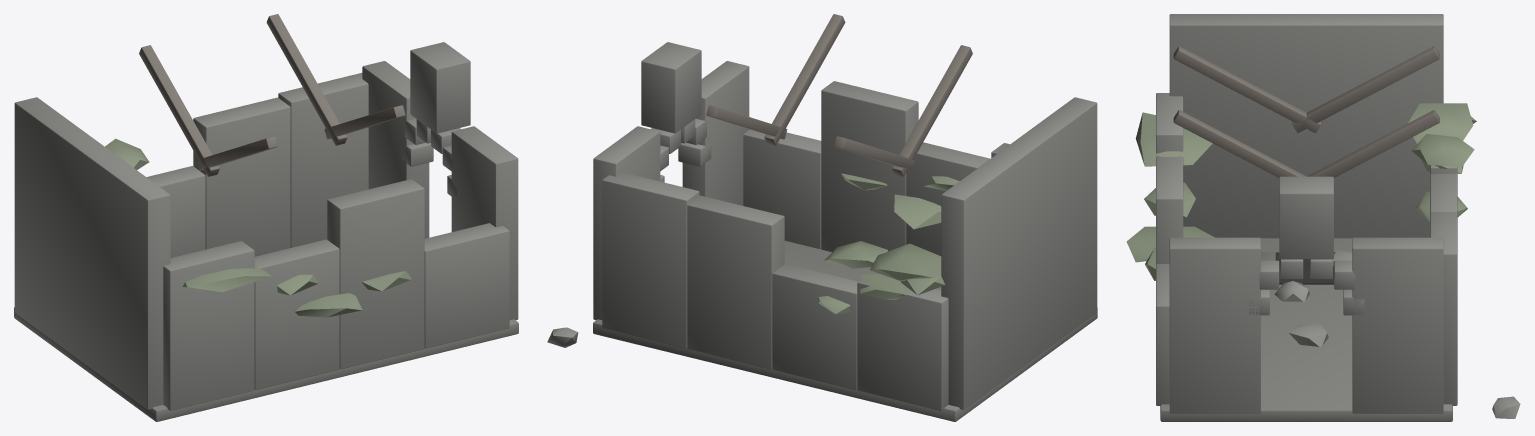
File: chapel_ruin.gltf
3 views of the same model, side by side, from view 1: azimuth 30°, elevation 25°; view 2: azimuth 150°, elevation 25°; view 3: azimuth 270°, elevation 25° (orthographic). The views are drawn at different scales.
Parts seen in each view (by area): view 1: Body; view 2: Body; view 3: Body.
Boxes of the visible parts, bbox=[...] form: Body: bbox=[14, 14, 518, 421]; Body: bbox=[547, 14, 1097, 421]; Body: bbox=[1126, 14, 1520, 421].
Bounding box in the file's own units: 9.88 × 6.75 × 8.62.
